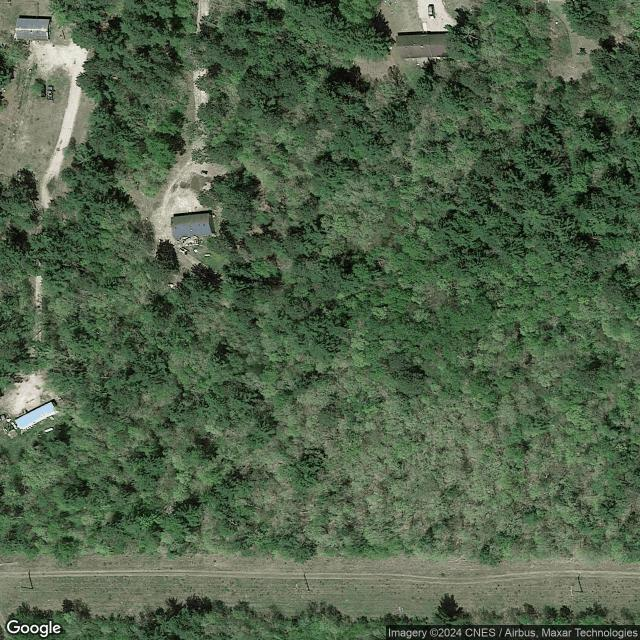Propane: (44, 426, 55, 434)
